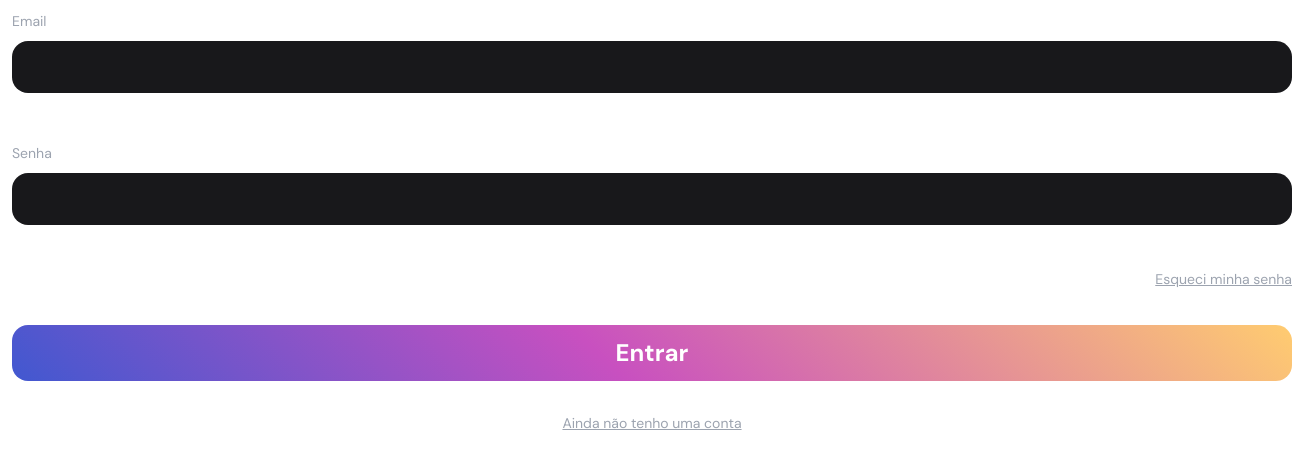
Test case: LoginForm › should display error messages › case the password is smaller than 8
Type "1" into the password field labelled "Senha" at (652, 199), box [12,173,1292,225]
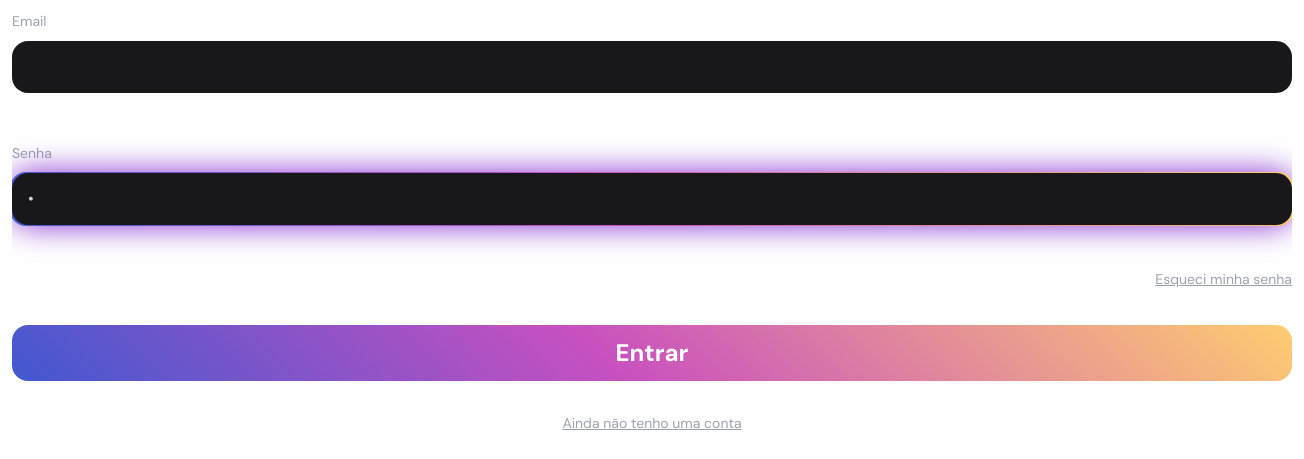
Click the button "Entrar" at (652, 353), box [12,325,1292,381]
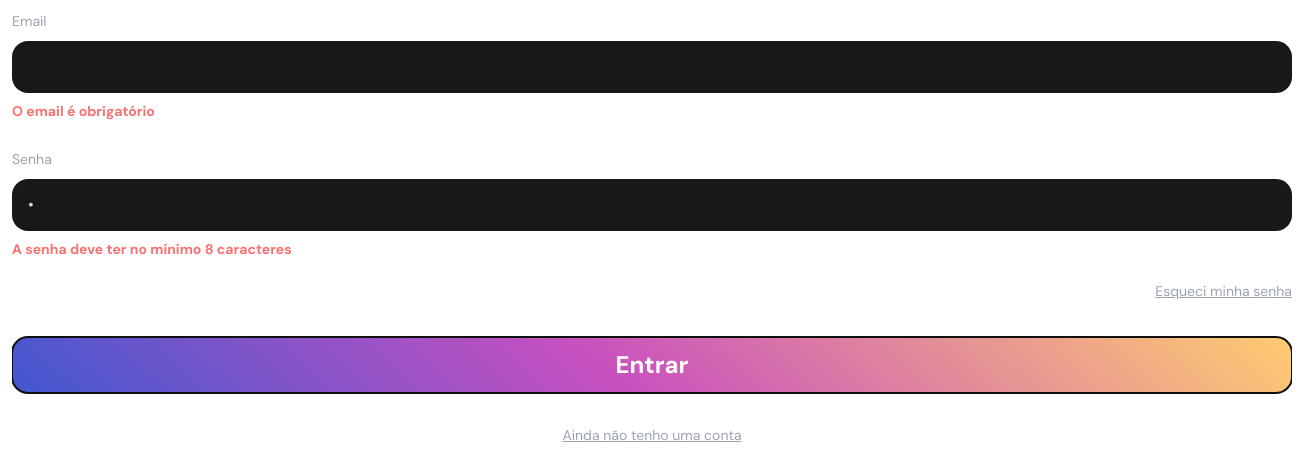
expect the text "A senha deve ter no mínimo 8 caracteres" is shown: met, box [12,239,292,259]
